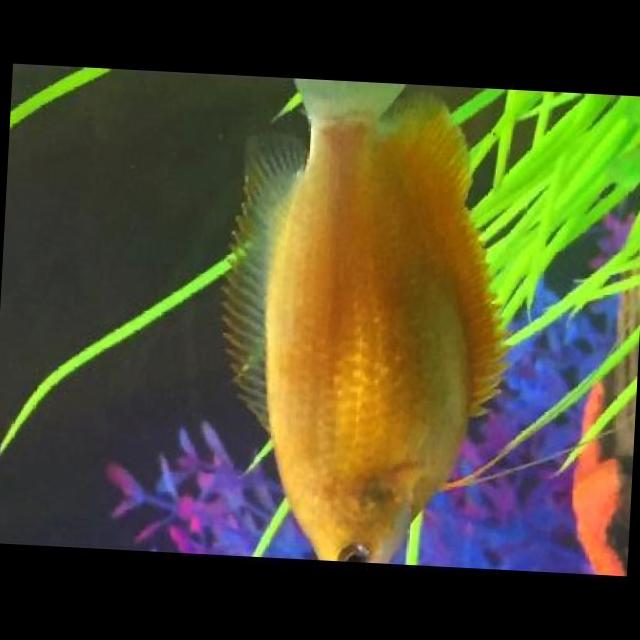Gourami: (203, 75, 520, 570)
